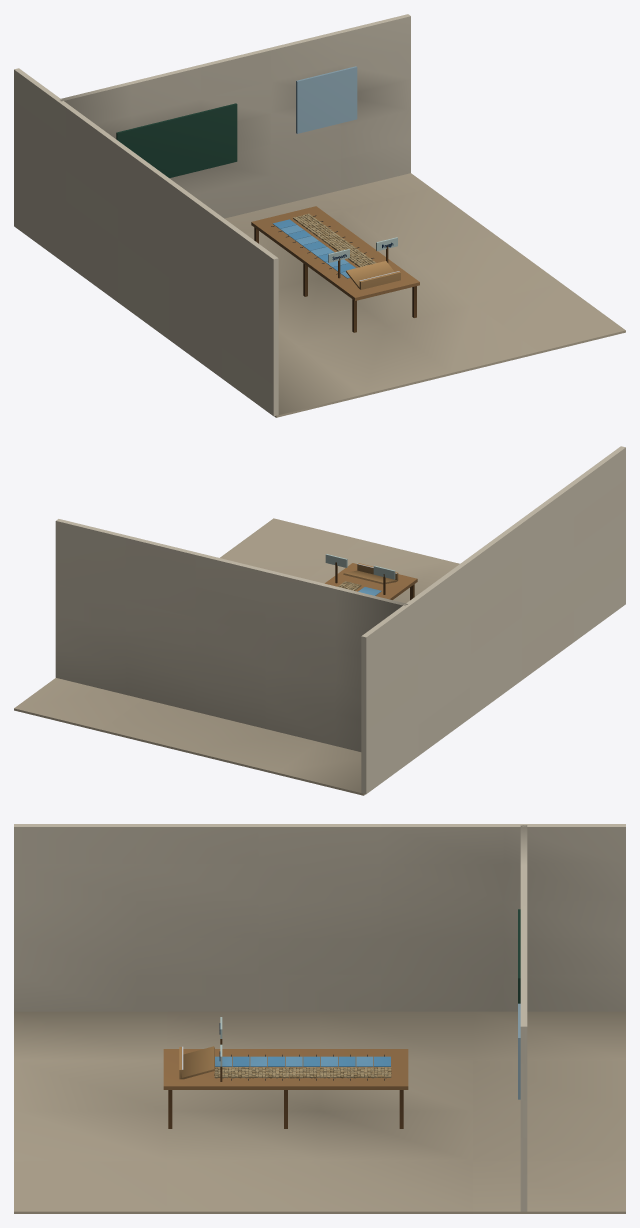
File: classroom.glb
3 views of the same model, one above another, from view 1: azimuth 30°, elevation 25°; view 2: azimuth 150°, elevation 25°; view 3: azimuth 270°, elevation 25° (orthographic). The views are drawn at different scales.
Parts seen in each view (by area): view 1: classroom; view 2: classroom; view 3: classroom.
Part boxes in pixels (box(x1,y1,x2,y2)): classroom: box(14, 14, 625, 417); classroom: box(14, 446, 625, 795); classroom: box(14, 824, 625, 1213).
Size of the model in its own units: 7.05 by 3.04 by 9.
